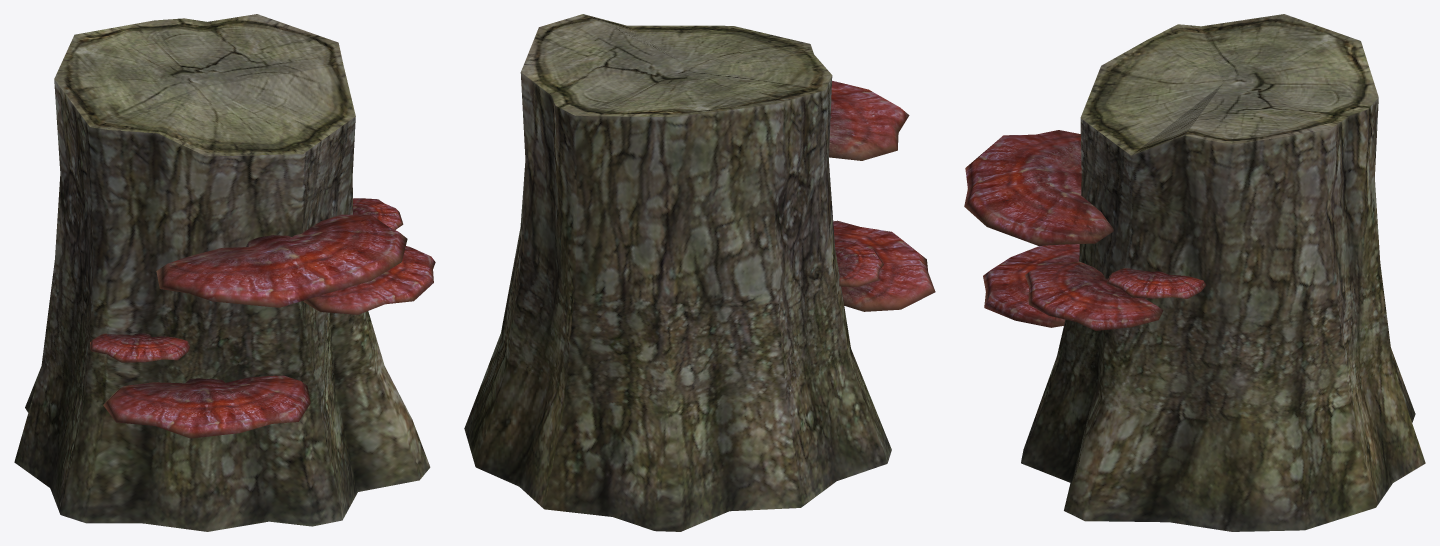
File: Ganoderma tsugae.FBX
3 renders of one model, left to right at view 1: azimuth 30°, elevation 25°; view 2: azimuth 150°, elevation 25°; view 3: azimuth 270°, elevation 25°, orthographic. The views are drawn at different scales.
Parts seen in each view (by area): view 1: tree, mushroom, mushroom3, mushroom2, mushroom4, mushroom5; view 2: tree, mushroom3, mushroom, mushroom4; view 3: tree, mushroom, mushroom2, mushroom3, mushroom5.
Part boxes in pixels (x1,y1,x2,y2): tree: [14, 14, 430, 531]; mushroom: [156, 214, 407, 307]; mushroom3: [103, 375, 310, 438]; mushroom2: [303, 246, 435, 314]; mushroom4: [90, 333, 190, 362]; mushroom5: [353, 198, 403, 229]; tree: [464, 14, 891, 531]; mushroom3: [833, 220, 935, 311]; mushroom: [829, 80, 909, 160]; mushroom4: [834, 241, 883, 287]; tree: [1021, 14, 1425, 531]; mushroom: [964, 130, 1113, 245]; mushroom2: [1025, 261, 1163, 330]; mushroom3: [983, 244, 1079, 327]; mushroom5: [1106, 268, 1206, 298].
Bounding box in the file's own units: 83.17 × 87.15 × 96.83.
